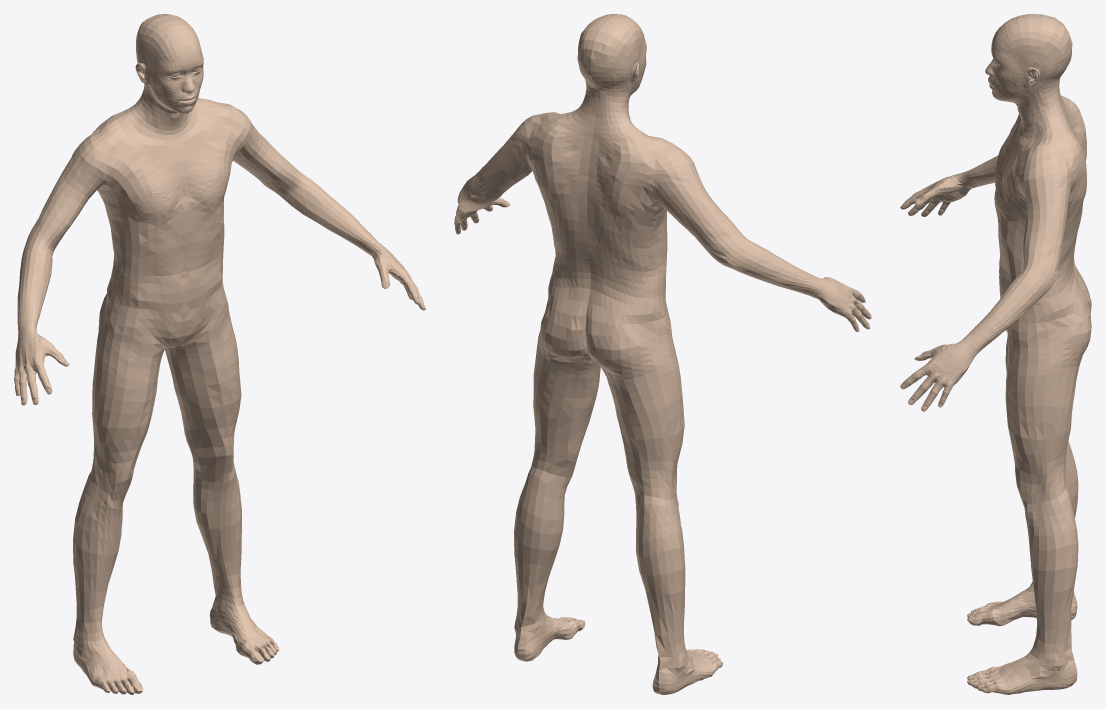
The model's file is male-young-average-medium.glb.
The picture shows the model from 3 angles, left to right: view 1: azimuth 30°, elevation 25°; view 2: azimuth 150°, elevation 25°; view 3: azimuth 270°, elevation 25°; orthographic projection.
Parts seen in each view (by area): view 1: world; view 2: world; view 3: world.
Boxes of the visible parts, left/top/right/bottom form: world: left=14, top=14, right=425, bottom=694; world: left=454, top=14, right=871, bottom=694; world: left=900, top=14, right=1091, bottom=694.
Size of the model in its own units: 1.26 by 1.92 by 0.5218.
